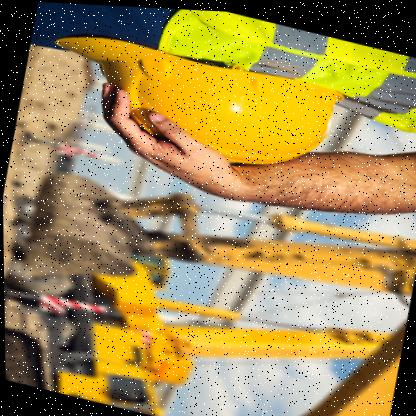helmet: (41, 13, 346, 188)
